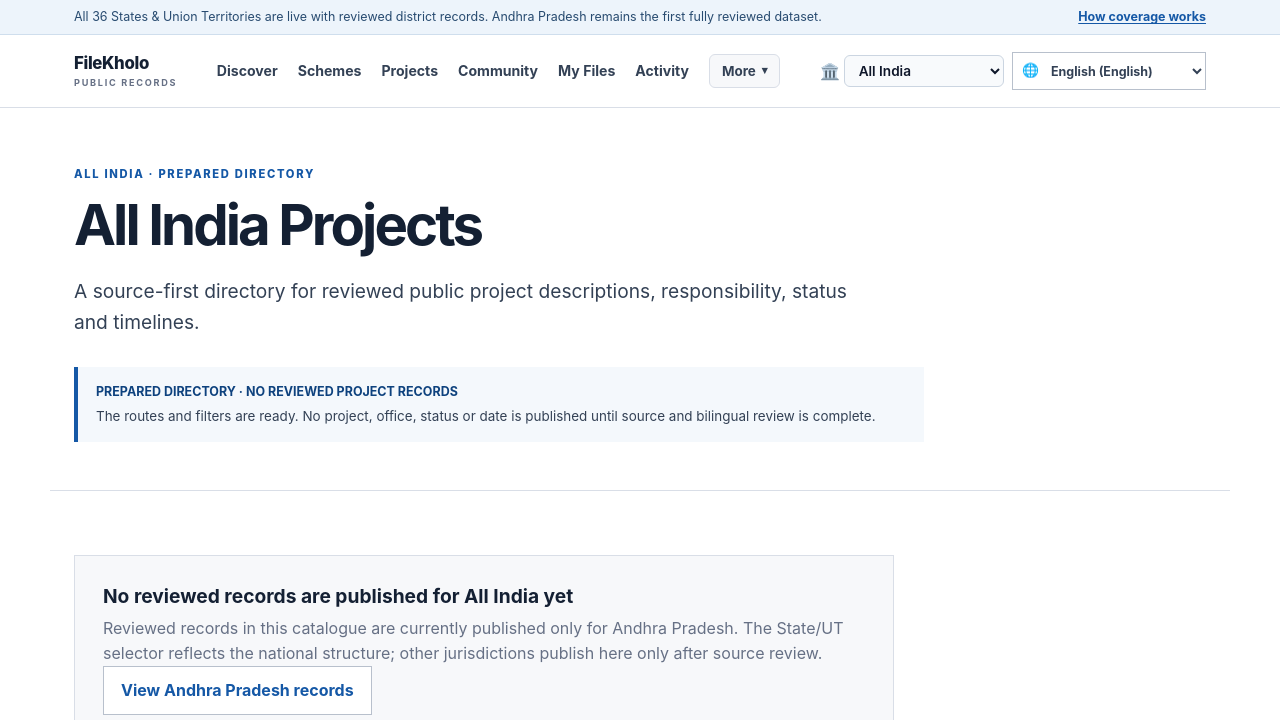
project routes › shows an honest All-India notice and can switch to Andhra Pradesh
The width and height of the screenshot is (1280, 720).
Expected: the heading "No reviewed records are published for All India yet" is shown, [103,584,573,608]
Click the button "View Andhra Pradesh records": [237, 690] box [103,666,372,715]
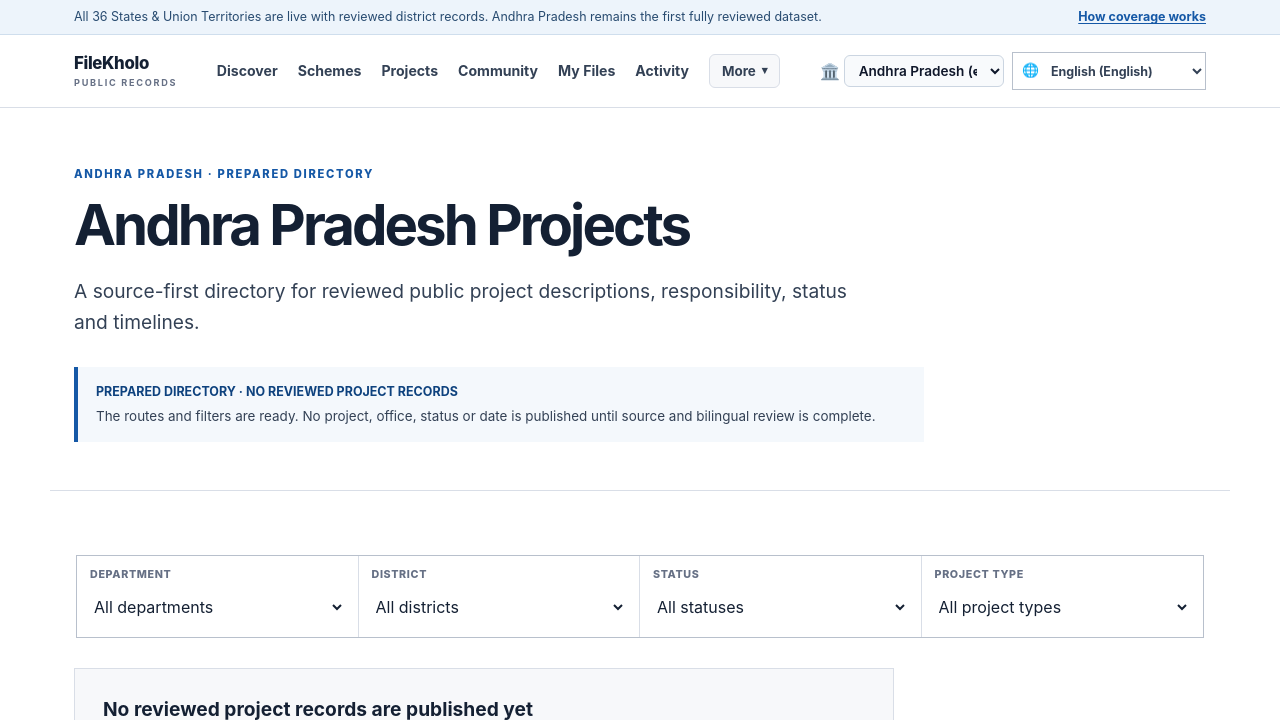
Result: the heading "Andhra Pradesh Projects" is shown at [74,190,689,259]
